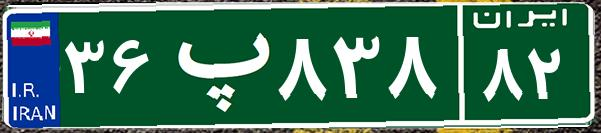2: (525, 38, 570, 115)
3: (330, 28, 385, 110), (57, 26, 110, 107)
6: (110, 28, 158, 105)
8: (385, 28, 445, 110), (273, 28, 330, 110), (475, 38, 525, 113)
پ: (158, 15, 273, 115)
